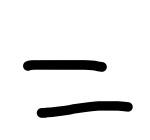eqv: (23, 59, 133, 118)
